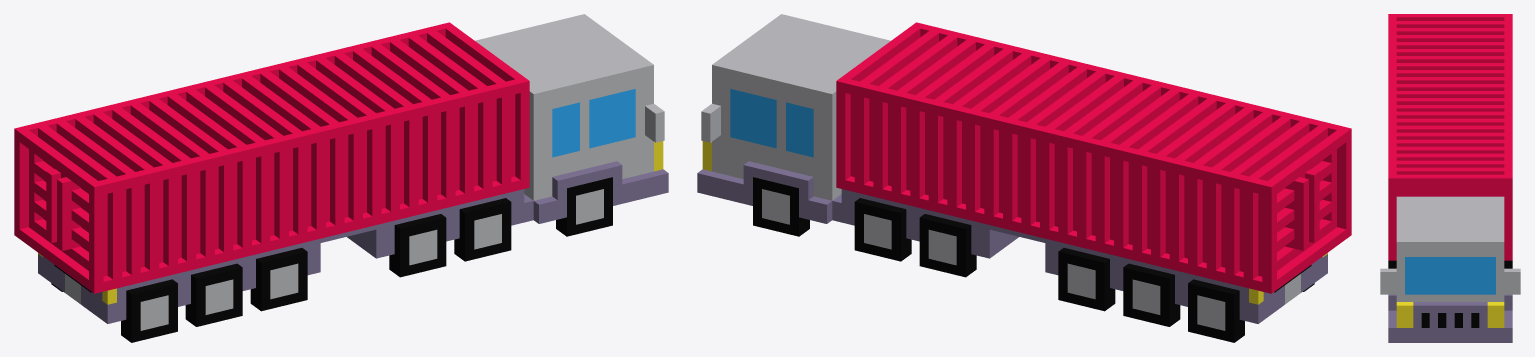
File: cargo_truck_a.obj
3 views of the same model, side by side, from view 1: azimuth 30°, elevation 25°; view 2: azimuth 150°, elevation 25°; view 3: azimuth 270°, elevation 25° (orthographic). The views are drawn at different scales.
Bounding box in the file's own units: 6.2 × 1.7 × 1.7.
1 material, 1 textured.
